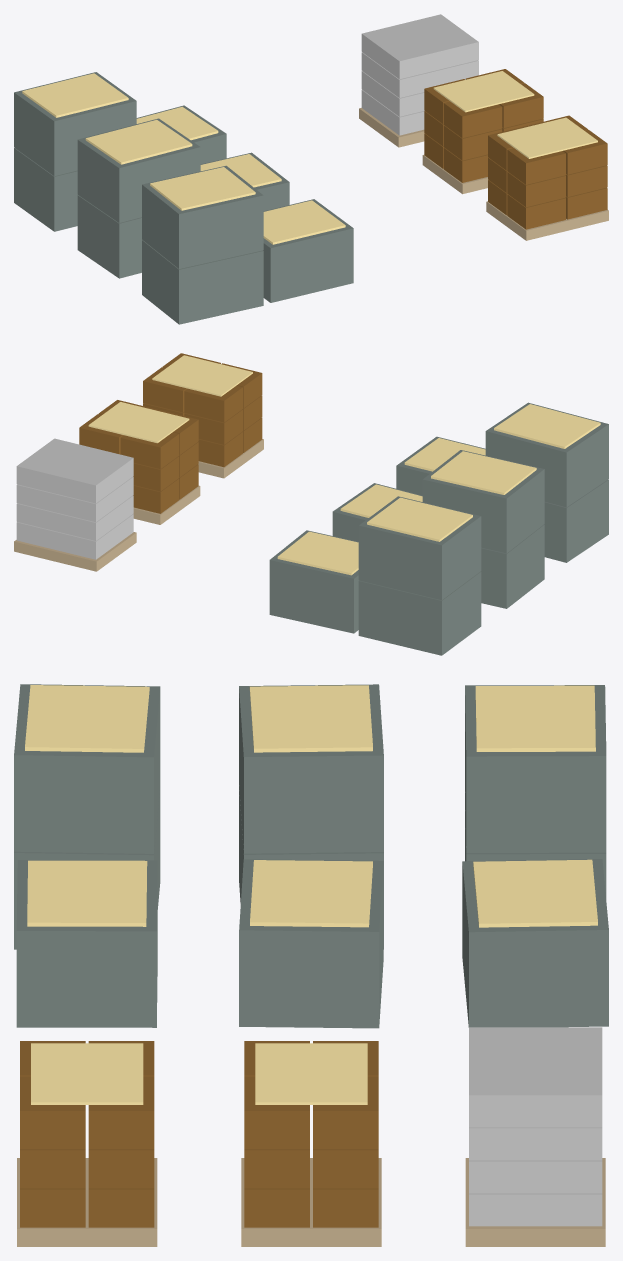
Rendered from SM_AcopioViveres_v1_Mitad_LOD0.fbx.
3 views of the same model, one above another, from view 1: azimuth 30°, elevation 25°; view 2: azimuth 150°, elevation 25°; view 3: azimuth 270°, elevation 25° (orthographic). The views are drawn at different scales.
Parts seen in each view (by area): view 1: SM_acopio_viveres_v1_LOD0; view 2: SM_acopio_viveres_v1_LOD0; view 3: SM_acopio_viveres_v1_LOD0.
Boxes of the visible parts, x1,y1,x2,y2 form: SM_acopio_viveres_v1_LOD0: [14, 14, 608, 324]; SM_acopio_viveres_v1_LOD0: [14, 353, 608, 655]; SM_acopio_viveres_v1_LOD0: [14, 684, 608, 1246].
Size of the model in its own units: 6.22 by 1.56 by 4.25.
